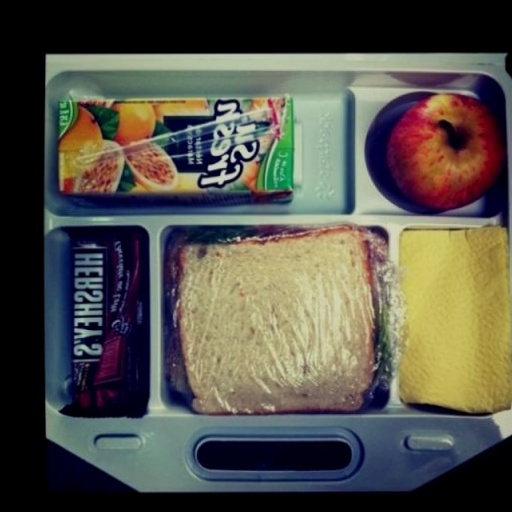fruit: (387, 95, 505, 210), (73, 140, 123, 192), (126, 144, 177, 191), (58, 107, 101, 151), (112, 102, 155, 145), (152, 99, 208, 121), (239, 160, 259, 190)
